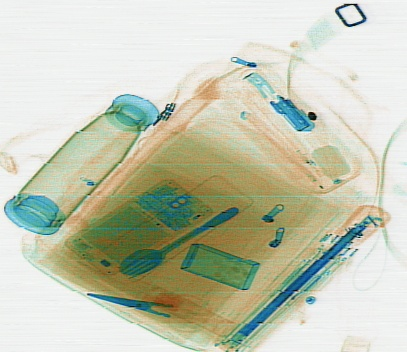scissors: (82, 291, 211, 335)
